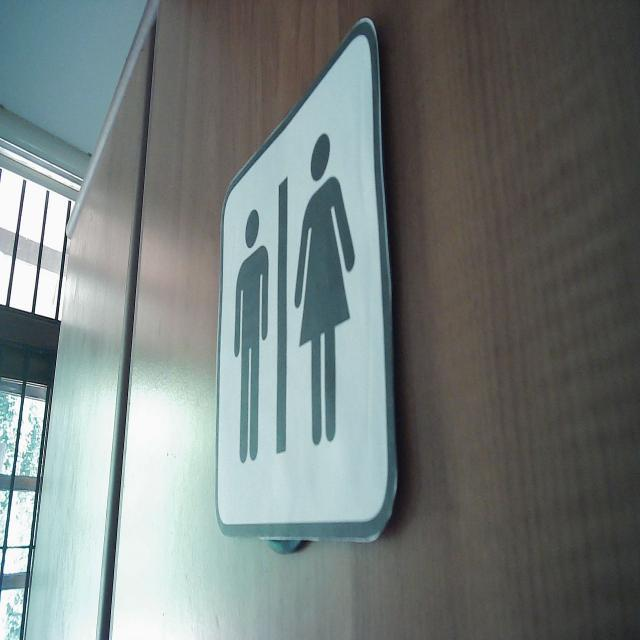restroom: (212, 12, 402, 547)
